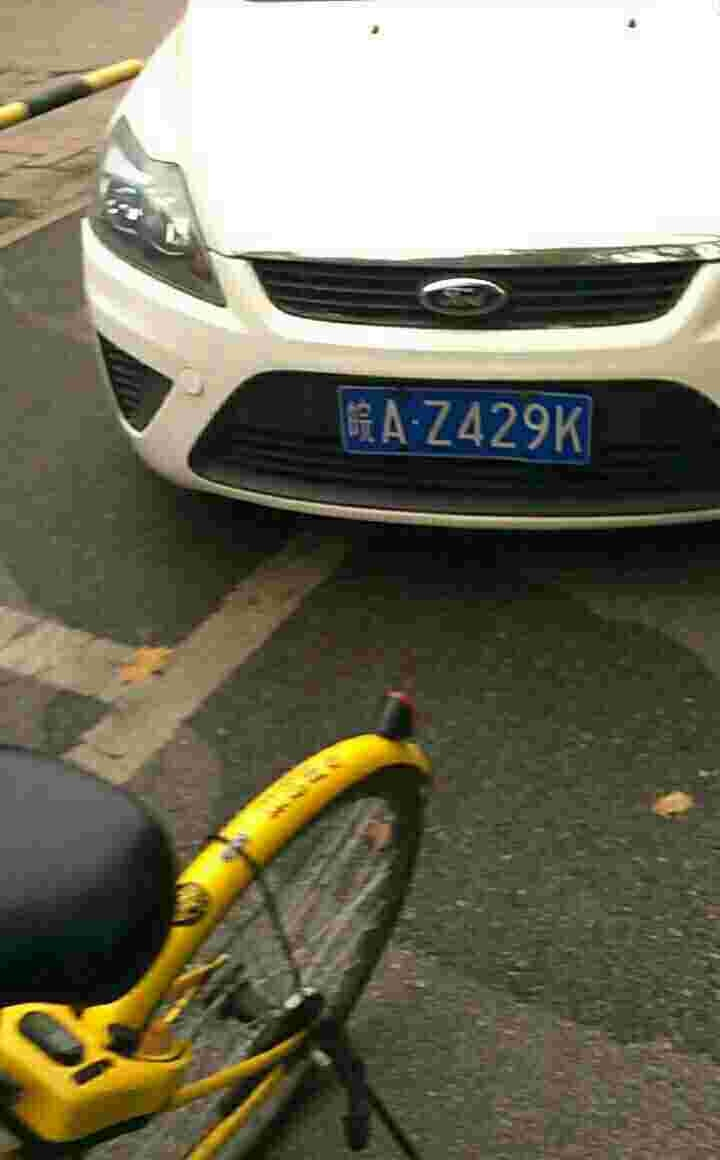plate: (339, 382, 598, 466)
